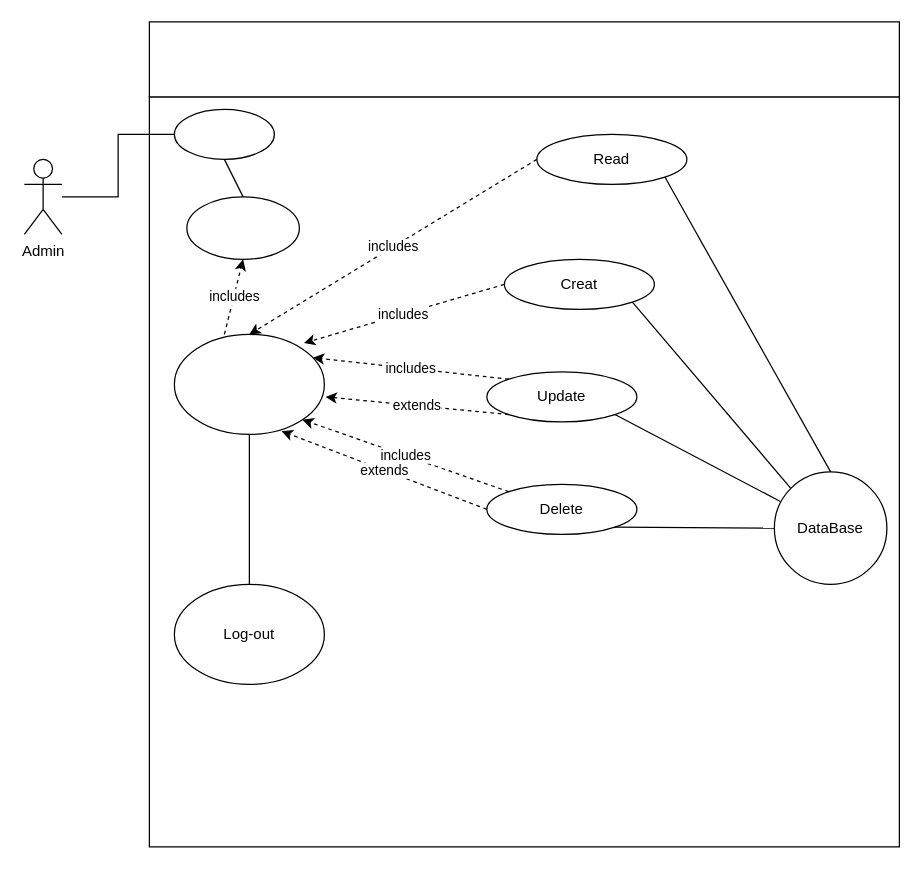
Some shapes in this 921 by 869 pixel diagram are drawn without their labels. The shapes that lost their labels are listed below. From the top down, each one's centre as x and y in pixels, then its label:
At (523,59): "UseCase (BLOG)".
At (223,133): "Home".
At (242,227): "Log-in".
At (248,383): "post".
